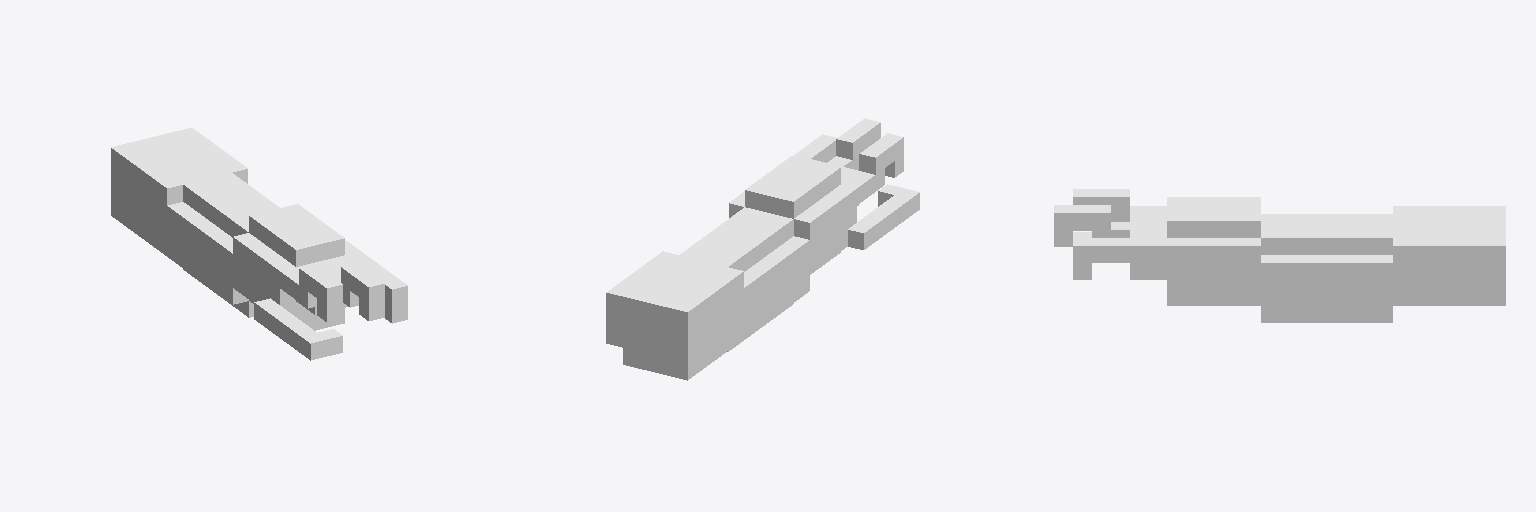
File: DragonThingArmsLeftForeArm.obj
3 views of the same model, side by side, from view 1: azimuth 30°, elevation 25°; view 2: azimuth 150°, elevation 25°; view 3: azimuth 270°, elevation 25° (orthographic).
Visible parts, largest first — view 1: DragonThingArmsLeftForeArm; view 2: DragonThingArmsLeftForeArm; view 3: DragonThingArmsLeftForeArm.
Part boxes in pixels (x1,y1,x2,y2): DragonThingArmsLeftForeArm: (111,128,407,360); DragonThingArmsLeftForeArm: (606,118,919,380); DragonThingArmsLeftForeArm: (1054,189,1505,322).
Size of the model in its own units: 6 by 6 by 24.